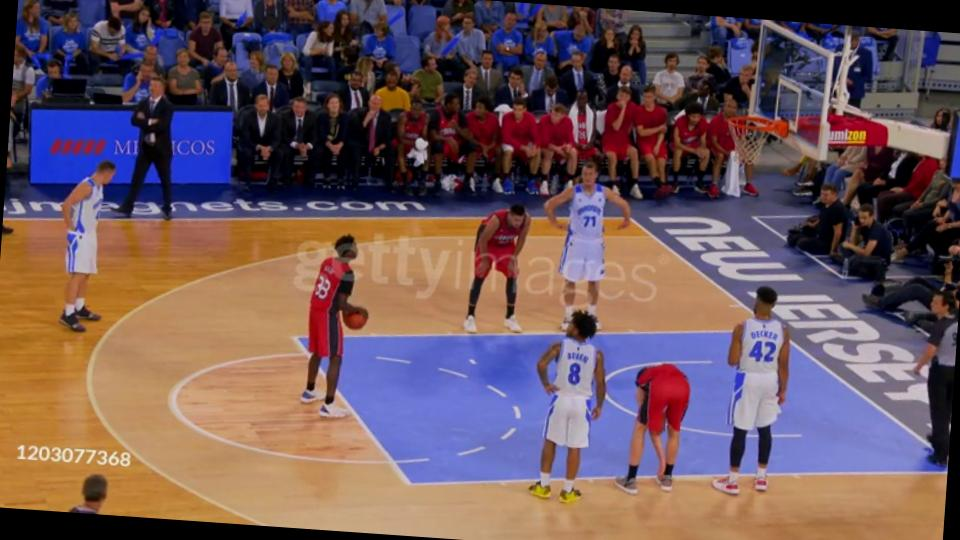hoop: (727, 111, 786, 137)
